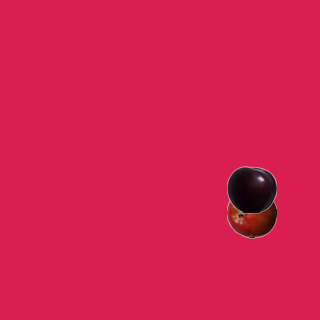Apple Braeburn: (226, 188, 276, 238)
Cherry Wax Black: (226, 164, 276, 214)
